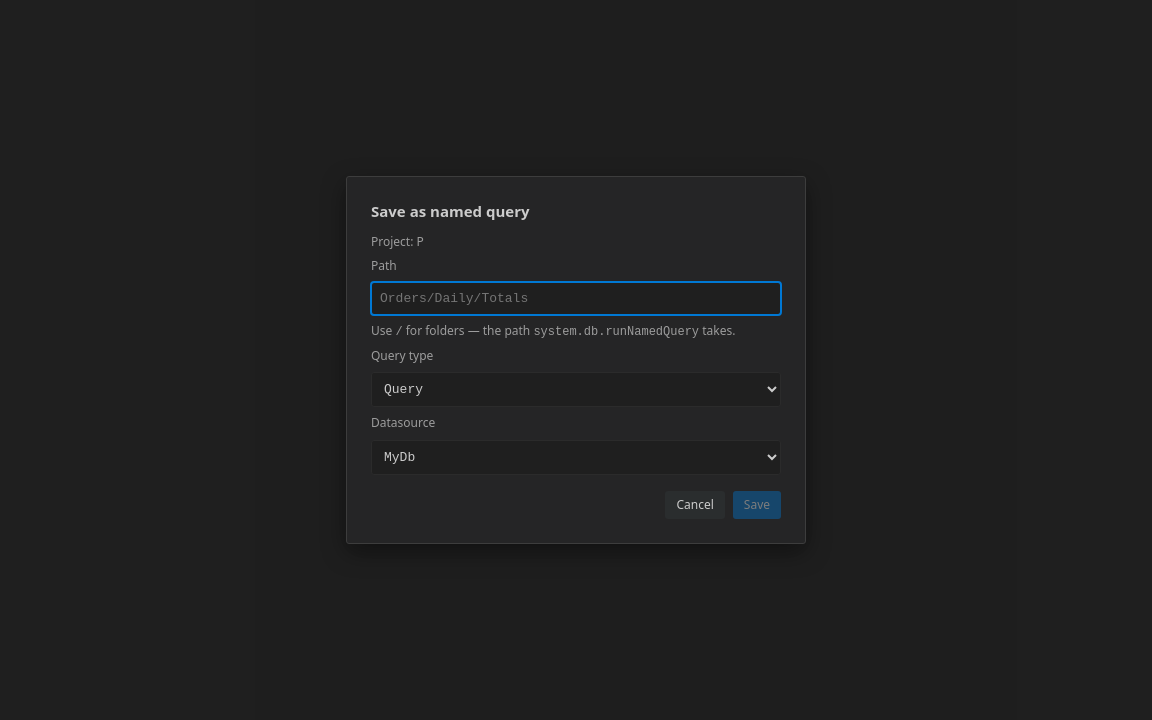
Scenario: SaveAsNamedQueryDialog — folder/query overlap refusal › refuses a path that would sit UNDER an existing query (a query cannot also be a folder)
Step 1. Type "Orders/Totals" into the field labelled "Path" → (576, 298), box [371,282,781,315]
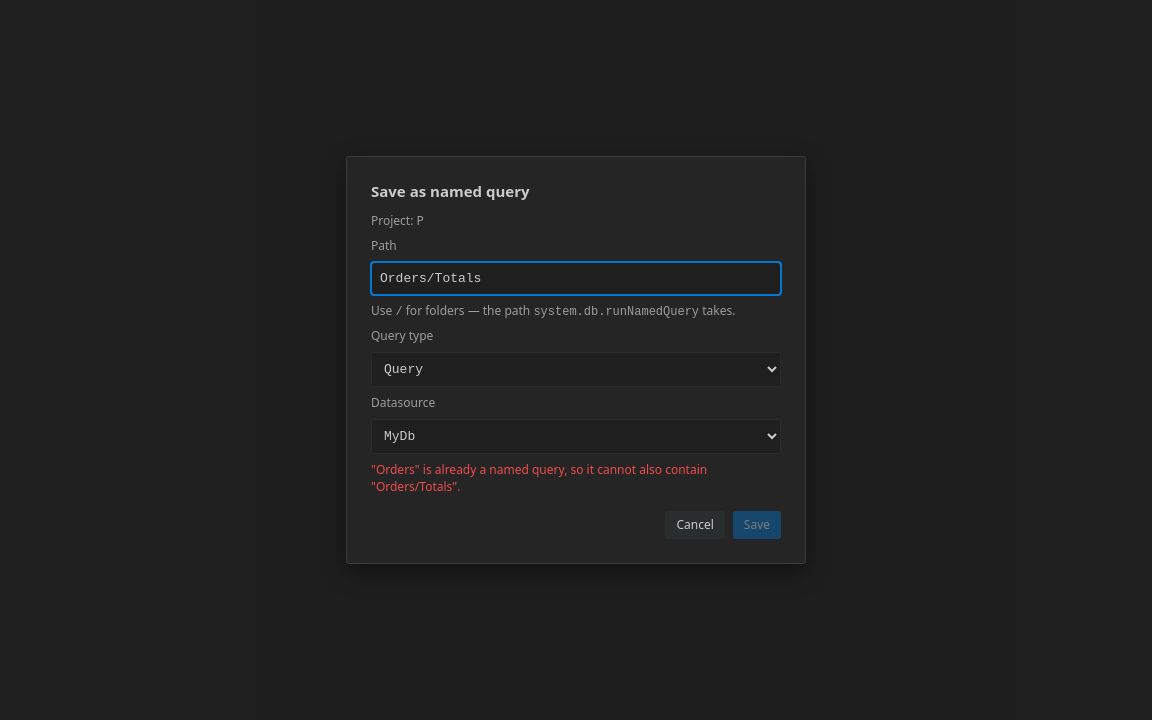
Expected: the message shows "already a named query", [371,461,707,495]
